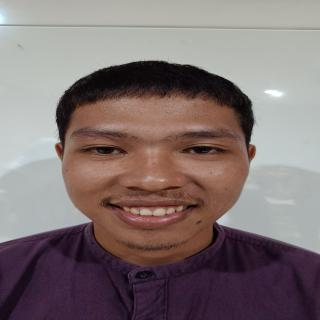Senang: (56, 83, 255, 255)
